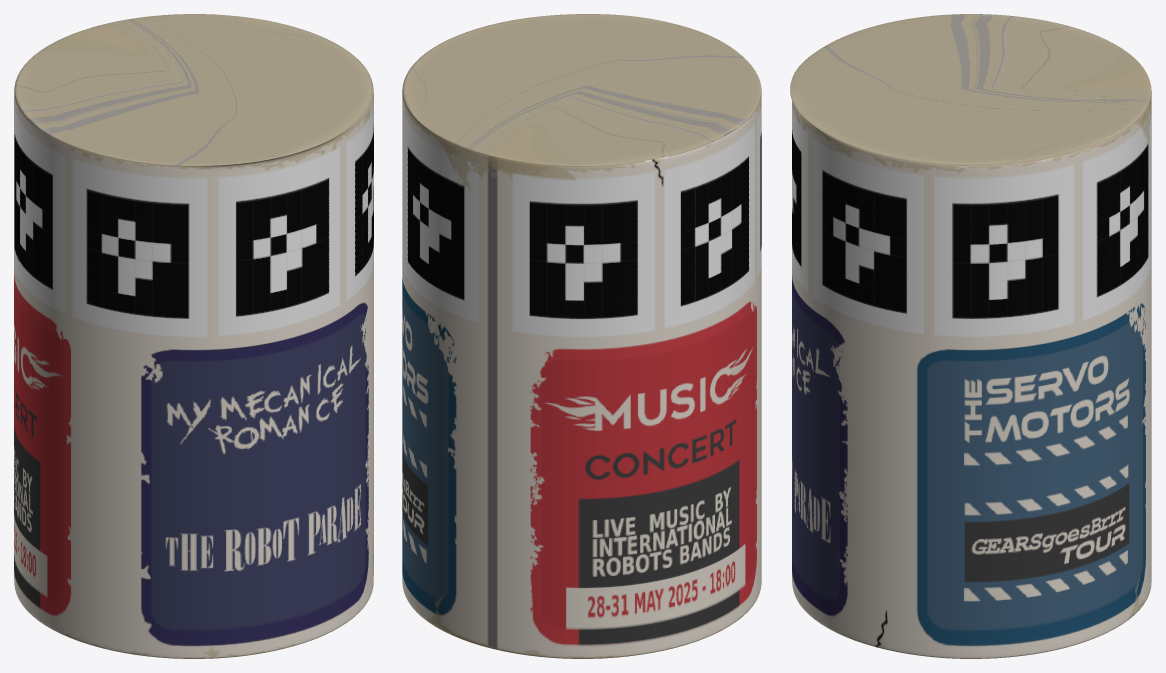
File: Joshka_cannette1.obj
3 renders of one model, left to right at view 1: azimuth 30°, elevation 25°; view 2: azimuth 150°, elevation 25°; view 3: azimuth 270°, elevation 25°, orthographic.
Parts seen in each view (by area): view 1: Plane.002; view 2: Plane.002; view 3: Plane.002.
Part boxes in pixels (x1,y1,x2,y2): Plane.002: (14, 14, 373, 658); Plane.002: (402, 14, 761, 658); Plane.002: (790, 14, 1151, 658).
Size of the model in its own units: 71.88 by 109 by 72.23.
